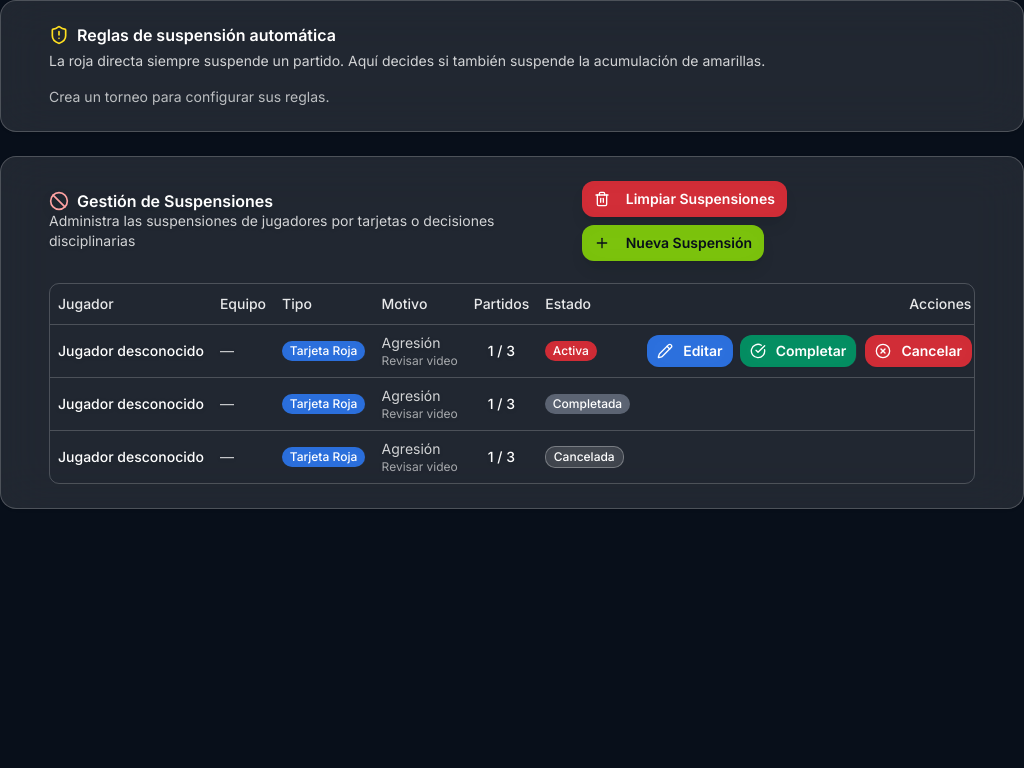
Test: Clear suspensions › keeps the dialog open and shows the API error when clearing fails
The image size is (1024, 768).
Click the button "Limpiar Suspensiones". click: click(684, 199)
box: [582,181,787,217]
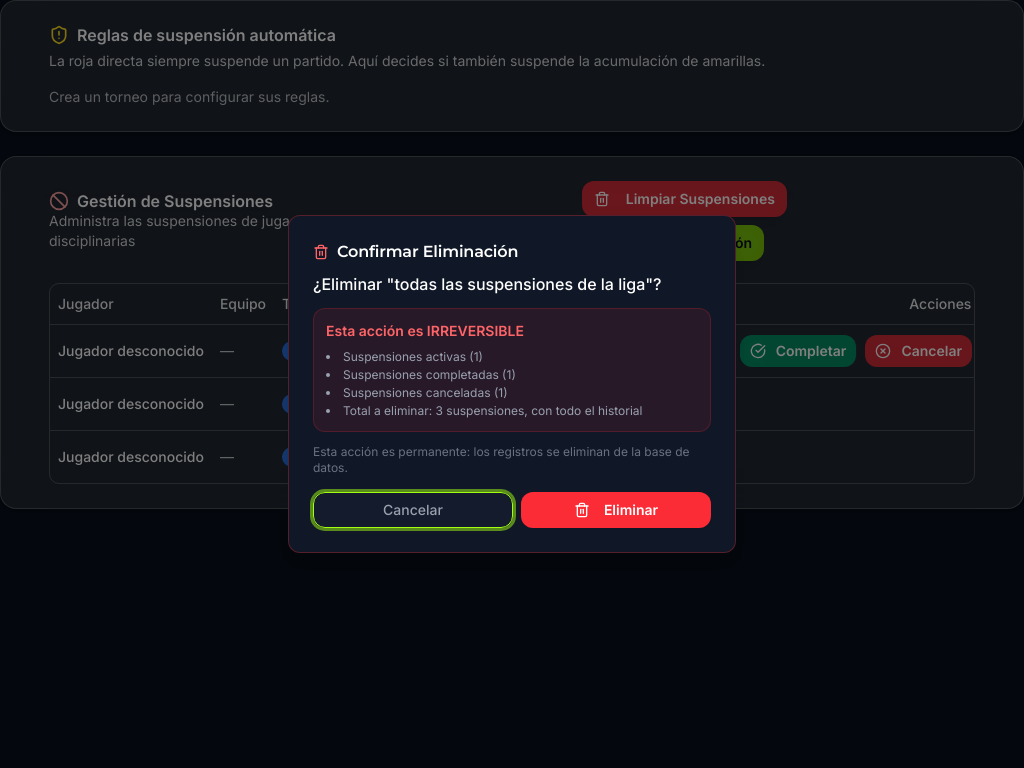
Click the button "Eliminar". click: click(616, 510)
box: [521,492,711,528]
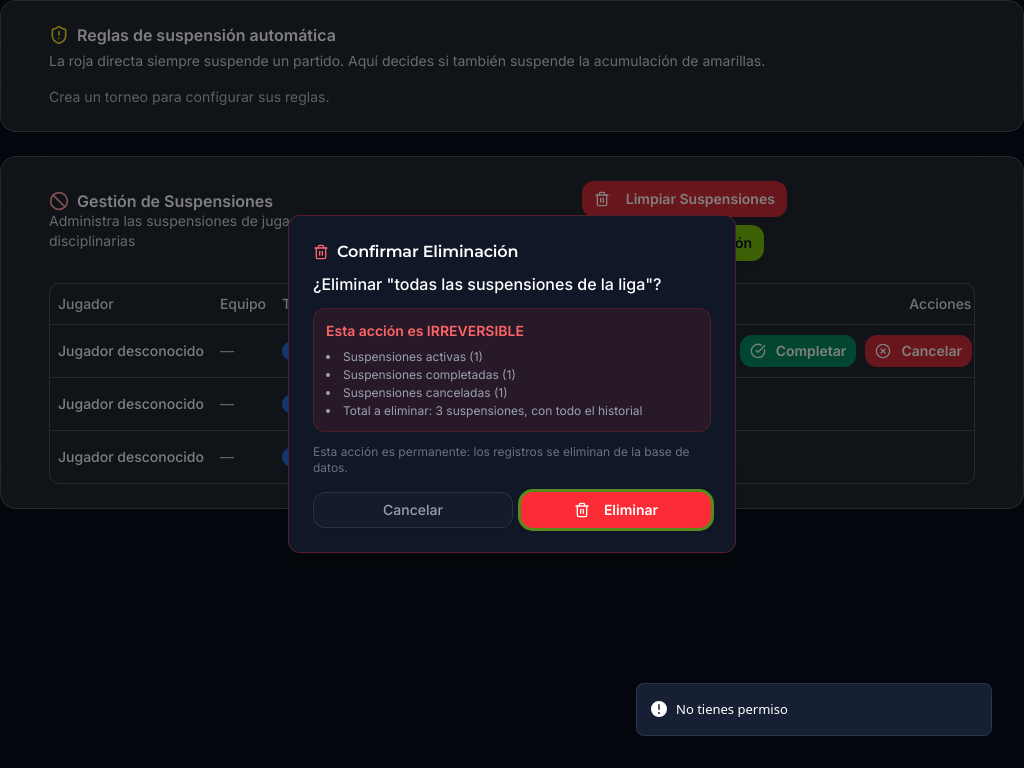
Now the button "Eliminar" is shown, box [521,492,711,528]
Now the text "No tienes permiso" is shown, box [676,700,788,719]
